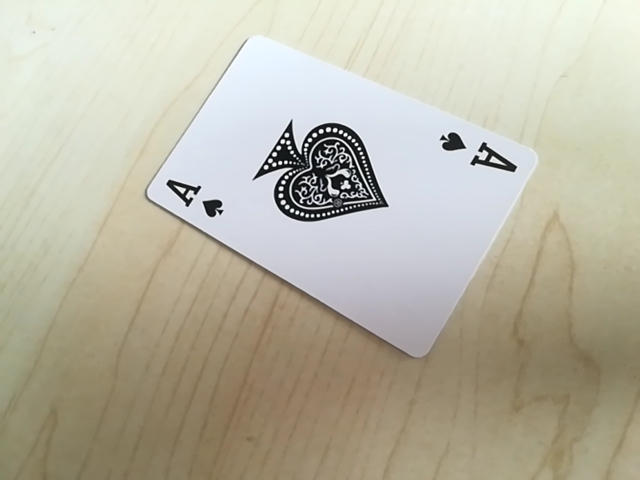ht a: (432, 124, 519, 178), (153, 176, 231, 225)
